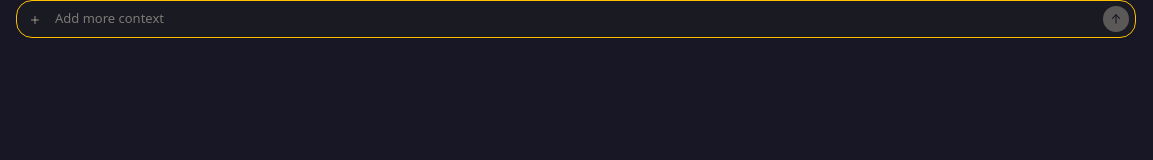
Test: composer box › the + menu offers files and saved prompts
The image size is (1153, 160).
Click the button named "Add files or saved prompts": point(35, 20) [23,8,47,32]
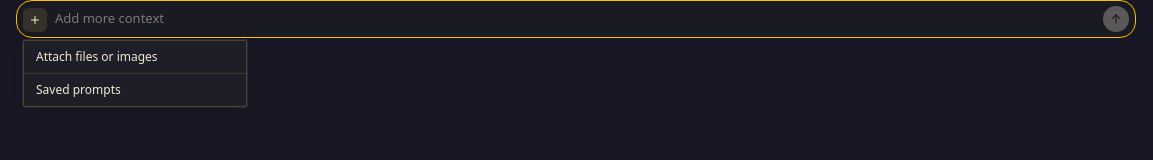
Check: the menu item "Attach files or images" is shown, box [36,48,158,65]
Check: the menu item with aria-label "Insert a saved prompt" is shown, box [36,81,121,98]
